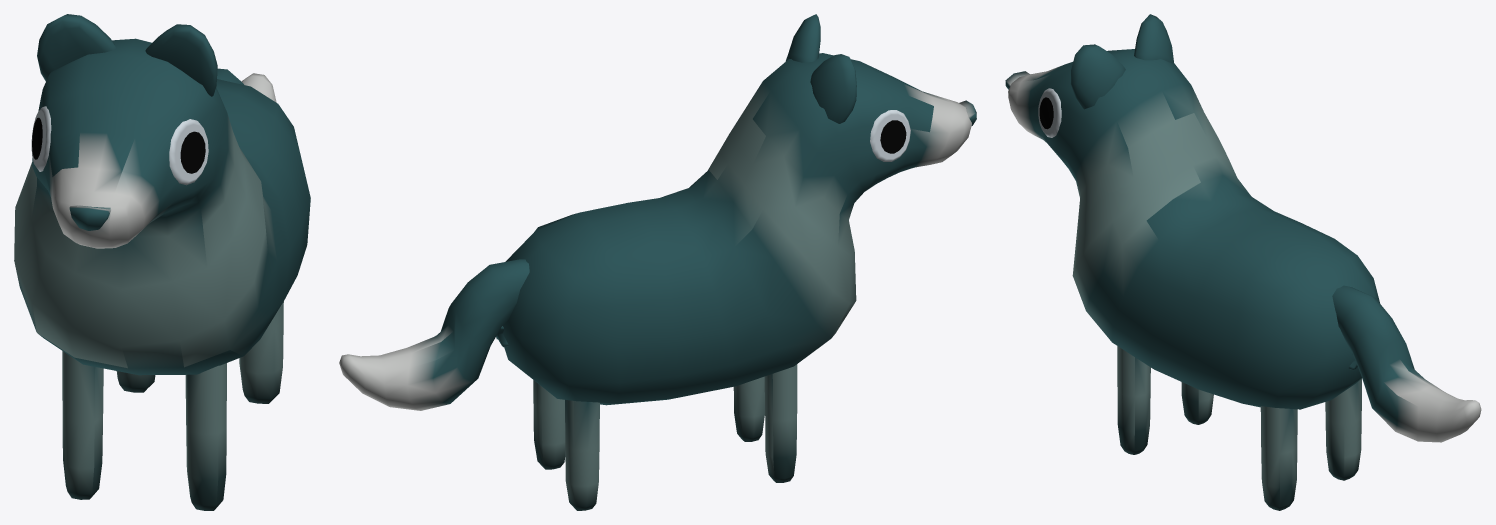
File: Wolf.glb
3 views of the same model, side by side, from view 1: azimuth 30°, elevation 25°; view 2: azimuth 150°, elevation 25°; view 3: azimuth 270°, elevation 25° (orthographic). The views are drawn at different scales.
Visible parts, largest first — view 1: 175; view 2: 175; view 3: 175.
Part boxes in pixels (<box>): 175: <box>14,14,310,510</box>; 175: <box>339,14,976,510</box>; 175: <box>1005,14,1481,510</box>.
Bounding box in the file's own units: 1.11 × 1.11 × 1.23.
